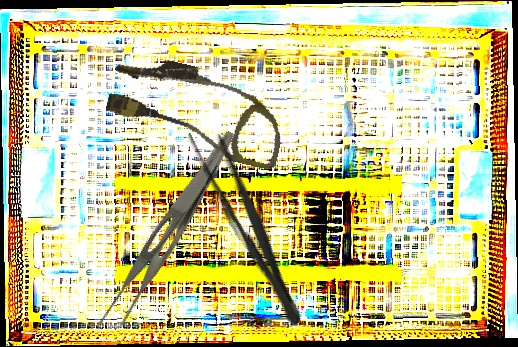Cannula: (100, 49, 294, 171)
Dressing Forceps: (93, 117, 237, 343), (182, 120, 314, 332)
